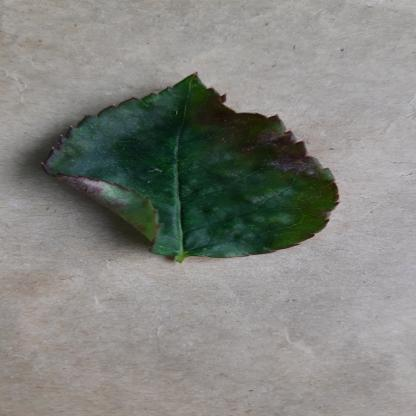powdery-mildew: (31, 70, 344, 260)
